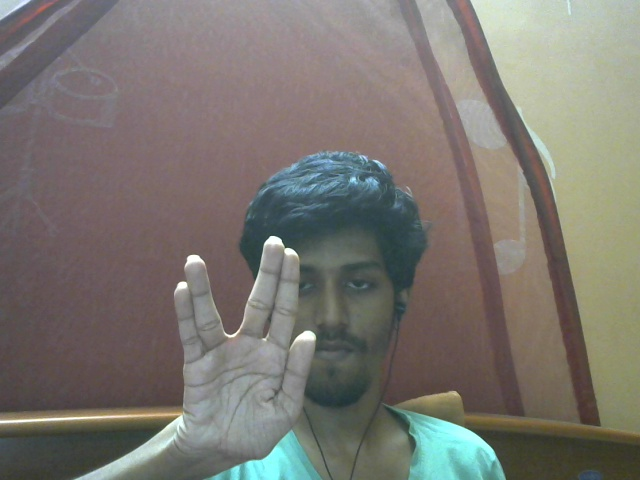LiveLong: (174, 235, 314, 466)
